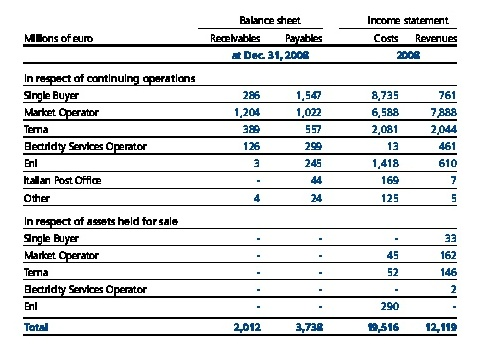table: (0, 0, 478, 351)
